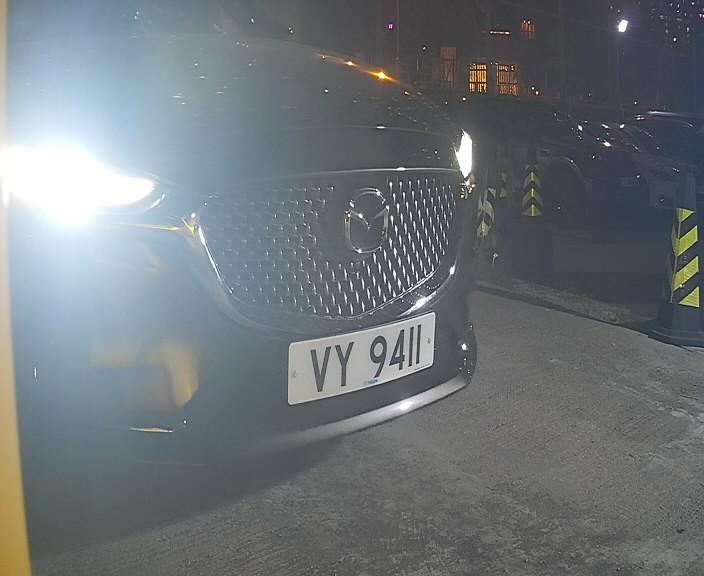privatecar: (10, 3, 507, 510)
